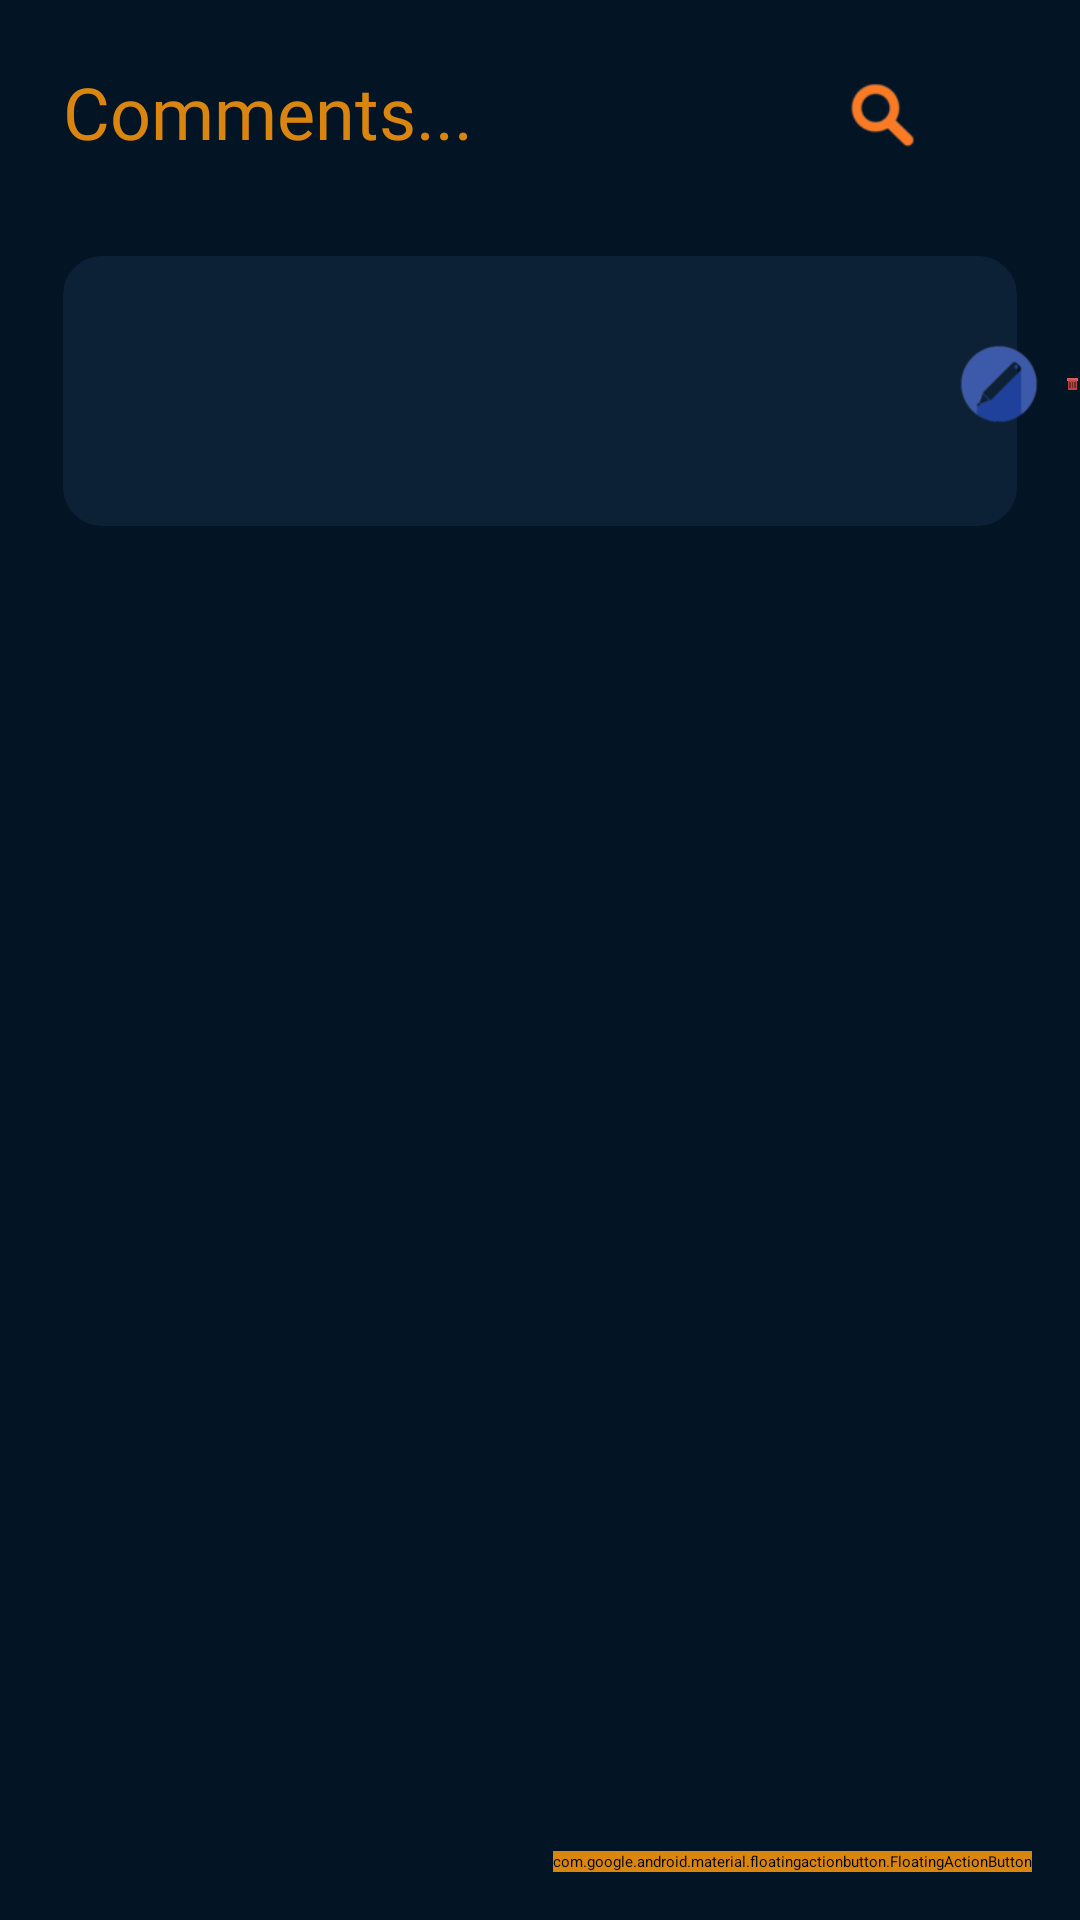

Where icons sit on this 1080 × 1920 app screen, as [x1=x1, y1=y1, x2=x2, y2=y2]:
edit: [x1=960, y1=345, x2=1037, y2=423]
searchimg: [x1=851, y1=84, x2=914, y2=147]
